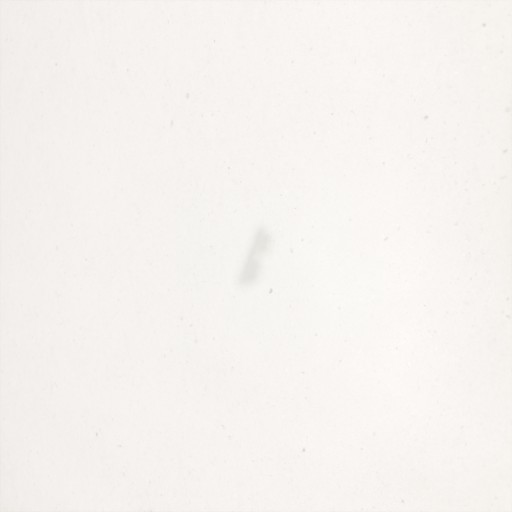lego: (235, 223, 274, 290)
